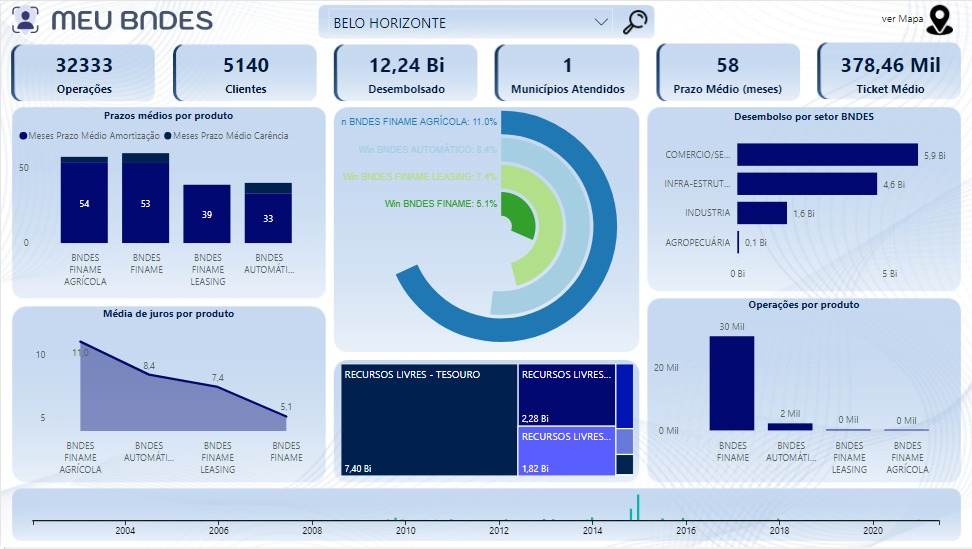

What the dashboard file says about the page in this screenshot:
{"tool":"powerbi","page":{"name":"MEU BNDES","canvas":[1280,720],"ordinal":0},"visuals":[{"type":"clusteredColumnChart","title":"Operações por produto","fields":{"Category":["OperaçõesBNDES.produto"],"Y":["CountNonNull(OperaçõesBNDES.id)"]},"box":[855.8,390.3,406.2,242.6],"z":0},{"type":"TimeBrush1450434005853","fields":{"Times":["OperaçõesBNDES.data_da_contratacao"],"Values":["Sum(OperaçõesBNDES.valor_desembolsado_reais)"]},"box":[17.1,640.9,1244.8,68.6],"z":1000},{"type":"clusteredBarChart","title":"Desembolso por setor BNDES","fields":{"Category":["OperaçõesBNDES.setor_bndes","OperaçõesBNDES.subsetor_bndes"],"Y":["Sum(OperaçõesBNDES.valor_desembolsado_reais)"]},"box":[855.8,142.4,406.2,236],"z":2000},{"type":"CHARTICULATOR_VISUAL_Radial_Bar_Chart18C61A1DB1B3EE5F3746E7B","title":"Taxa de Juros por produto","fields":{"Market_Share":["Métricas.Taxa Juros Média"],"Versions":["OperaçõesBNDES.produto"]},"box":[443.1,122.6,432.5,349.5],"z":3000},{"type":"slicer","fields":{"Values":["OperaçõesBNDES.municipio"]},"box":[422.5,0,395,60.6],"z":4000},{"type":"treemap","fields":{"Group":["OperaçõesBNDES.fonte_de_recurso_desembolsos"],"Values":["Sum(OperaçõesBNDES.valor_desembolsado_reais)"]},"box":[443.1,473.4,395.6,158.2],"z":5000},{"type":"card","fields":{"Values":["Métricas.Qtd Operações"]},"box":[19.8,59.3,180,69.9],"z":6000},{"type":"card","fields":{"Values":["Métricas.Qtd Clientes"]},"box":[233.4,59.3,179.3,69.9],"z":7000},{"type":"card","fields":{"Values":["Métricas.Vr Desembolsado"]},"box":[444.4,59.3,180.7,69.9],"z":8000},{"type":"card","fields":{"Values":["Métricas.Qtd Municípios Atendidos"]},"box":[658,59.3,179.3,69.9],"z":9000},{"type":"card","fields":{"Values":["Métricas.Meses Prazo Total Médio"]},"box":[869,59.3,179.3,69.9],"z":10000},{"type":"card","fields":{"Values":["Métricas.Vr Ticket Médio"]},"box":[1082.6,59.3,180.7,69.9],"z":11000},{"type":"areaChart","fields":{"Y":["Avg(OperaçõesBNDES.juros)"],"Category":["OperaçõesBNDES.produto"]},"box":[18.5,402.2,404.8,230.8],"z":12000},{"type":"columnChart","title":"Prazos médios por produto","fields":{"Y":["Métricas.Meses Prazo Médio Amortização","Métricas.Meses Prazo Médio Carência"],"Category":["OperaçõesBNDES.produto"]},"box":[18.5,141.1,404.8,245.3],"z":13000},{"type":"image","box":[1211.9,0,51.4,50.1],"z":14000},{"type":"textbox","box":[1156.5,9.2,81.8,50.1],"z":15000},{"type":"actionButton","box":[1156.5,0,106.8,50.1],"z":16000},{"type":"image","box":[4,0,286.2,50.1],"z":22000}]}

Visuals, with their boxes in screenshot pixels (x1, y1, x2, y2), scaled from the page's 1280x720 canvas onto the 972x549 screenshot:
"Operações por produto" clusteredColumnChart: [x1=650, y1=298, x2=958, y2=483]
TimeBrush1450434005853 - OperaçõesBNDES.data_da_contratacao x Sum(OperaçõesBNDES.valor_desembolsado_reais): [x1=13, y1=489, x2=958, y2=541]
"Desembolso por setor BNDES" clusteredBarChart: [x1=650, y1=109, x2=958, y2=289]
"Taxa de Juros por produto" CHARTICULATOR_VISUAL_Radial_Bar_Chart18C61A1DB1B3EE5F3746E7B: [x1=336, y1=93, x2=665, y2=360]
slicer - OperaçõesBNDES.municipio: [x1=321, y1=0, x2=621, y2=46]
treemap - OperaçõesBNDES.fonte_de_recurso_desembolsos x Sum(OperaçõesBNDES.valor_desembolsado_reais): [x1=336, y1=361, x2=637, y2=482]
card - Métricas.Qtd Operações: [x1=15, y1=45, x2=152, y2=99]
card - Métricas.Qtd Clientes: [x1=177, y1=45, x2=313, y2=99]
card - Métricas.Vr Desembolsado: [x1=337, y1=45, x2=475, y2=99]
card - Métricas.Qtd Municípios Atendidos: [x1=500, y1=45, x2=636, y2=99]
card - Métricas.Meses Prazo Total Médio: [x1=660, y1=45, x2=796, y2=99]
card - Métricas.Vr Ticket Médio: [x1=822, y1=45, x2=959, y2=99]
areaChart - Avg(OperaçõesBNDES.juros) x OperaçõesBNDES.produto: [x1=14, y1=307, x2=321, y2=483]
"Prazos médios por produto" columnChart: [x1=14, y1=108, x2=321, y2=295]
image: [x1=920, y1=0, x2=959, y2=38]
textbox: [x1=878, y1=7, x2=940, y2=45]
actionButton: [x1=878, y1=0, x2=959, y2=38]
image: [x1=3, y1=0, x2=220, y2=38]
